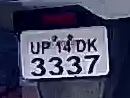1: (54, 38, 62, 53)
3: (64, 55, 82, 76), (29, 57, 45, 77), (48, 56, 63, 76)
4: (62, 40, 73, 53)
7: (85, 54, 101, 74)
D: (76, 37, 86, 54)
K: (85, 38, 99, 54)
P: (40, 39, 52, 54)
U: (29, 40, 41, 54)
